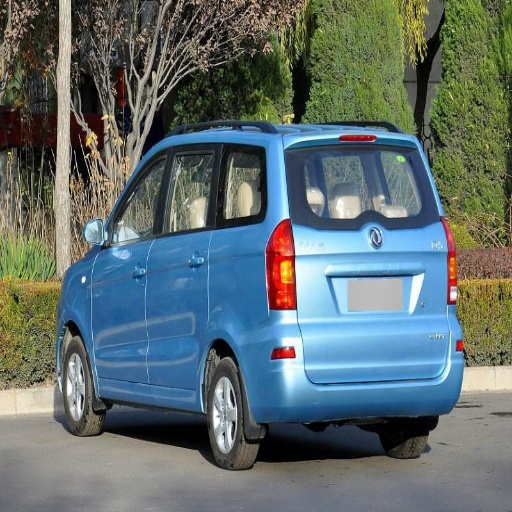back_bumper: (251, 348, 464, 423)
back_glass: (298, 145, 430, 222)
back_left_door: (149, 147, 257, 400)
trunk: (282, 221, 455, 381), (234, 308, 263, 374)
